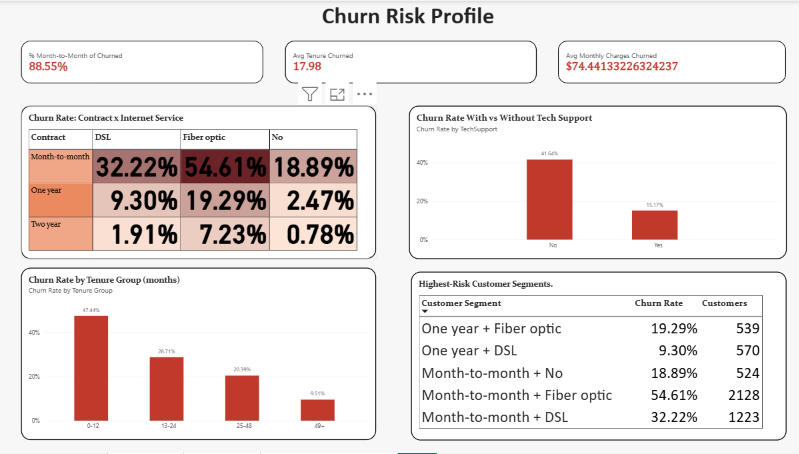

The dashboard page shown, as its layout file describes it:
{"tool":"powerbi","page":{"name":"Churn Risk Profile","canvas":[1920,1080],"ordinal":2},"visuals":[{"type":"cardVisual","fields":{"Data":["Data.% Month-to-Month of Churned"]},"box":[51,96.4,578.3,102],"z":0},{"type":"cardVisual","fields":{"Data":["Data.Avg Tenure Churned"]},"box":[680.3,96.4,600.9,102],"z":1},{"type":"cardVisual","fields":{"Data":["Data.Avg Monthly Charges Churned"]},"box":[1332.3,96.4,544.3,102],"z":2},{"type":"pivotTable","title":"Churn Rate: Contract x Internet Service","fields":{"Columns":["Data.InternetService"],"Rows":["Data.Contract"],"Values":["Data.Churn Rate"]},"box":[51,249.5,847.6,365.7],"z":3},{"type":"clusteredColumnChart","title":"Churn Rate With vs Without Tech Support","fields":{"Category":["Data.TechSupport"],"Y":["Data.Churn Rate"]},"box":[975.1,249.5,901.4,365.7],"z":4},{"type":"clusteredColumnChart","title":"Churn Rate by Tenure Group (months)","fields":{"Category":["Data.Tenure Group"],"Y":["Data.Churn Rate"]},"box":[51,637.8,847.6,411],"z":5},{"type":"tableEx","title":"Highest-Risk Customer Segments.","fields":{"Values":["Data.Segment","Data.Churn Rate","Data.Total Customers"]},"box":[980.8,646.3,895.8,402.5],"z":6},{"type":"textbox","box":[558.4,0,830.6,96.4],"z":8}]}

Visuals, with their boxes in screenshot pixels (x1, y1, x2, y2), scaled from the page's 1920x1080 canvas onto the 799x454 screenshot:
cardVisual - Data.% Month-to-Month of Churned: detection(21, 41, 262, 83)
cardVisual - Data.Avg Tenure Churned: detection(283, 41, 533, 83)
cardVisual - Data.Avg Monthly Charges Churned: detection(554, 41, 781, 83)
"Churn Rate: Contract x Internet Service" pivotTable: detection(21, 105, 374, 259)
"Churn Rate With vs Without Tech Support" clusteredColumnChart: detection(406, 105, 781, 259)
"Churn Rate by Tenure Group (months)" clusteredColumnChart: detection(21, 268, 374, 441)
"Highest-Risk Customer Segments." tableEx: detection(408, 272, 781, 441)
textbox: detection(232, 0, 578, 41)
